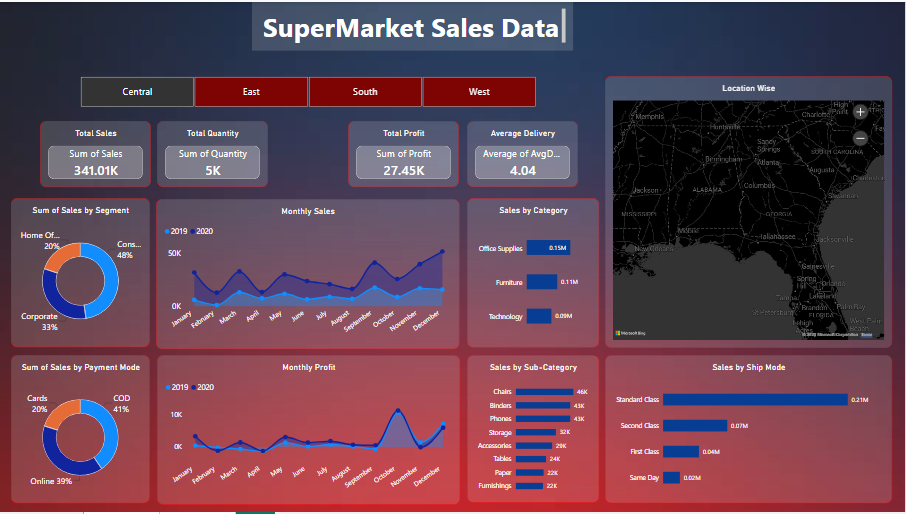

What the dashboard file says about the page in this screenshot:
{"tool":"powerbi","page":{"name":"Page 1","canvas":[1920,1080],"ordinal":0},"visuals":[{"type":"clusteredBarChart","title":"Sales by Category","fields":{"Category":["Sheet1.Category"],"Y":["Sum(Sheet1.Sales)"]},"box":[990,416,280,316.7],"z":0},{"type":"clusteredBarChart","title":"Sales by Sub-Category","fields":{"Category":["Sheet1.Sub-Category"],"Y":["Sum(Sheet1.Sales)"]},"box":[990,748,280,313.3],"z":1000},{"type":"clusteredBarChart","title":"Sales by Ship Mode","fields":{"Category":["Sheet1.Ship Mode"],"Y":["Sum(Sheet1.Sales)"]},"box":[1284,748,608,314],"z":2000},{"type":"stackedAreaChart","title":"Monthly Sales","fields":{"Category":["Sheet1.Order Date.Variation.Date Hierarchy.Month"],"Series":["Sheet1.Order Date.Variation.Date Hierarchy.Year"],"Y":["Sum(Sheet1.Sales)"]},"box":[333.3,416.7,642.5,317.5],"z":3000},{"type":"stackedAreaChart","title":"Monthly Profit","fields":{"Category":["Sheet1.Order Date.Variation.Date Hierarchy.Month"],"Series":["Sheet1.Order Date.Variation.Date Hierarchy.Year"],"Y":["Sum(Sheet1.Profit)"]},"box":[334,748,642,317],"z":4000},{"type":"map","title":"Location Wise","fields":{"Category":["Sheet1.State"],"Size":["Sum(Sheet1.Sales)"]},"box":[1283.3,156.7,607.8,576],"z":5000},{"type":"donutChart","fields":{"Category":["Sheet1.Segment"],"Y":["Sum(Sheet1.Sales)"]},"box":[26,416,294,316],"z":6000},{"type":"donutChart","fields":{"Category":["Sheet1.Payment Mode"],"Y":["Sum(Sheet1.Sales)"]},"box":[26,748,294,314],"z":7000},{"type":"slicer","fields":{"Values":["Sheet1.Region"]},"box":[152.5,156.7,1003.3,66.7],"z":8000},{"type":"textbox","title":"Dashboard","box":[25.8,25.8,680,103.3],"z":9000},{"type":"cardVisual","title":"Total Sales","fields":{"Data":["Sum(Sheet1.Sales)"]},"box":[86,252,235,140],"z":10000},{"type":"cardVisual","title":"Total Quantity","fields":{"Data":["Sum(Sheet1.Quantity)"]},"box":[334,252,235,140],"z":11000},{"type":"cardVisual","title":"Total Profit","fields":{"Data":["Sum(Sheet1.Profit)"]},"box":[740,252,235,140],"z":12000},{"type":"cardVisual","title":"Average Delivery","fields":{"Data":["Avg(Sheet1.AvgDelivery)"]},"box":[990,252,235,140],"z":13000}]}

Visuals, with their boxes in screenshot pixels (x1, y1, x2, y2), scaled from the page's 1920x1080 canvas onto the 906x514 screenshot:
"Sales by Category" clusteredBarChart: x1=467, y1=198, x2=599, y2=349
"Sales by Sub-Category" clusteredBarChart: x1=467, y1=356, x2=599, y2=505
"Sales by Ship Mode" clusteredBarChart: x1=606, y1=356, x2=893, y2=505
"Monthly Sales" stackedAreaChart: x1=157, y1=198, x2=460, y2=349
"Monthly Profit" stackedAreaChart: x1=158, y1=356, x2=461, y2=507
"Location Wise" map: x1=606, y1=75, x2=892, y2=349
donutChart - Sheet1.Segment x Sum(Sheet1.Sales): x1=12, y1=198, x2=151, y2=348
donutChart - Sheet1.Payment Mode x Sum(Sheet1.Sales): x1=12, y1=356, x2=151, y2=505
slicer - Sheet1.Region: x1=72, y1=75, x2=545, y2=106
"Dashboard" textbox: x1=12, y1=12, x2=333, y2=61
"Total Sales" cardVisual: x1=41, y1=120, x2=151, y2=187
"Total Quantity" cardVisual: x1=158, y1=120, x2=268, y2=187
"Total Profit" cardVisual: x1=349, y1=120, x2=460, y2=187
"Average Delivery" cardVisual: x1=467, y1=120, x2=578, y2=187
